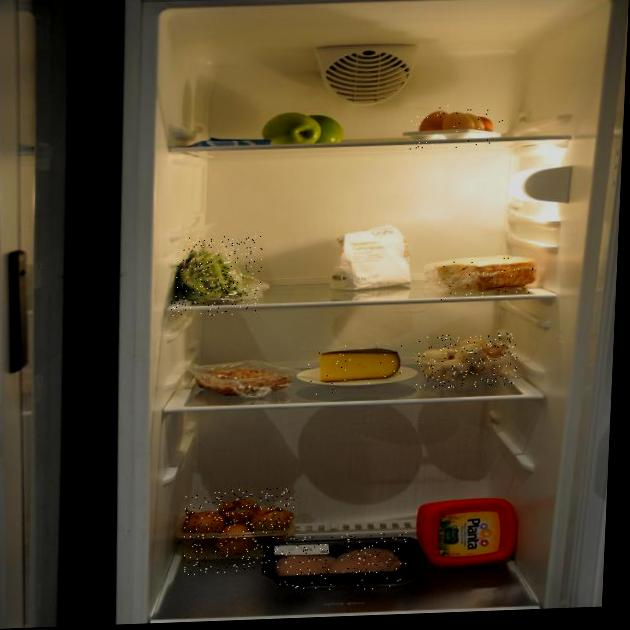apple: (265, 104, 350, 147)
bread: (435, 255, 536, 301)
cheese: (306, 343, 411, 397)
eggs: (402, 102, 504, 154)
green beans: (171, 235, 263, 317)
meat: (278, 532, 411, 593)
mushroom: (416, 332, 518, 389)
onion: (182, 487, 295, 575)
